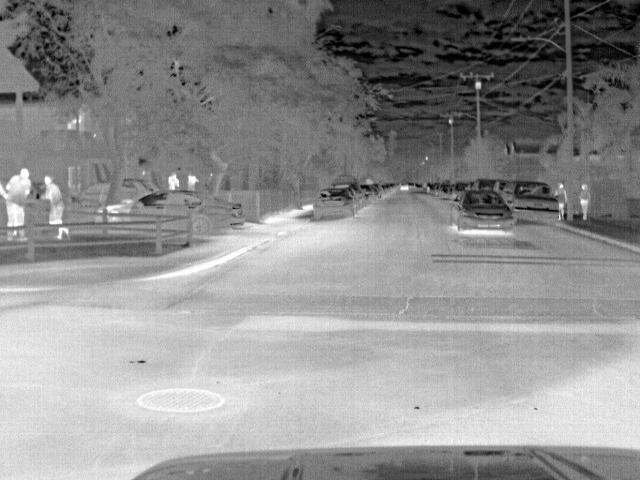car: (499, 178, 561, 224), (453, 188, 513, 234), (192, 192, 244, 234), (130, 190, 191, 215), (311, 188, 356, 216), (121, 177, 163, 204), (75, 178, 113, 207), (332, 182, 366, 207), (449, 179, 468, 202), (475, 178, 498, 194), (357, 183, 375, 202), (439, 183, 453, 199), (399, 181, 411, 192)
person: (4, 167, 34, 228), (42, 174, 65, 222), (552, 181, 570, 221), (576, 183, 591, 220), (168, 173, 182, 192), (186, 173, 200, 192)
